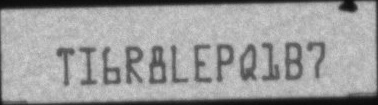1: (260, 41, 281, 80)
6: (102, 45, 119, 86)
7: (307, 39, 326, 80)
8: (146, 44, 167, 83)
B: (285, 40, 304, 81)
E: (193, 42, 213, 84)
I: (79, 45, 97, 84)
L: (169, 42, 189, 83)
P: (215, 43, 235, 82)
Q: (239, 44, 258, 83)
R: (124, 45, 143, 84)
T: (55, 47, 76, 85)
